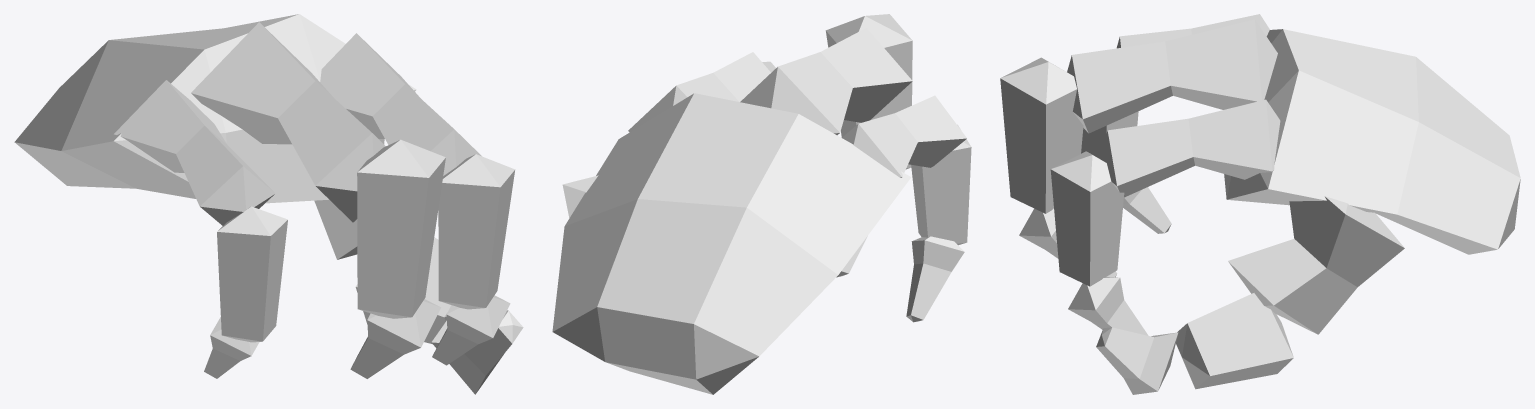
The model's file is Zeolite_acc_02.FBX.
3 renders of one model, left to right at view 1: azimuth 30°, elevation 25°; view 2: azimuth 150°, elevation 25°; view 3: azimuth 270°, elevation 25°, orthographic. The views are drawn at different scales.
Visible parts, largest first — view 1: Zeolite_acc_02; view 2: Zeolite_acc_02; view 3: Zeolite_acc_02.
Boxes of the visible parts, x1,y1,x2,y2 form: Zeolite_acc_02: (14,14,523,394); Zeolite_acc_02: (552,14,971,394); Zeolite_acc_02: (1000,14,1520,394).
Size of the model in its own units: 30.86 by 29.99 by 45.19.
